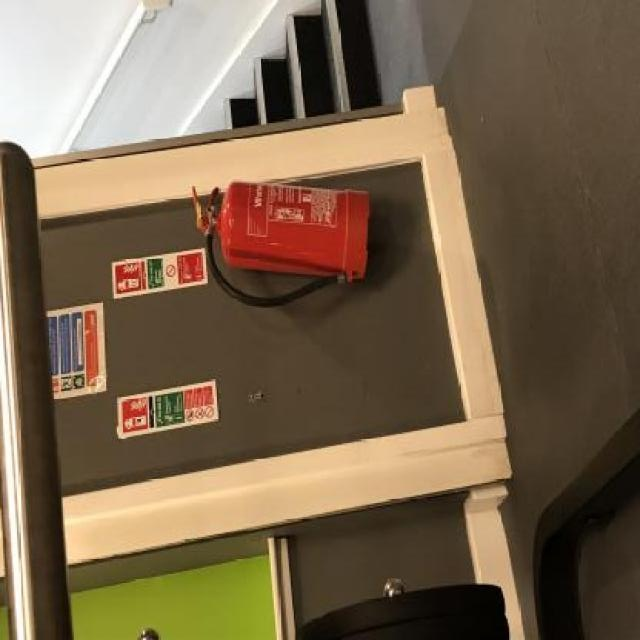fire extinguisher: (191, 178, 372, 307)
